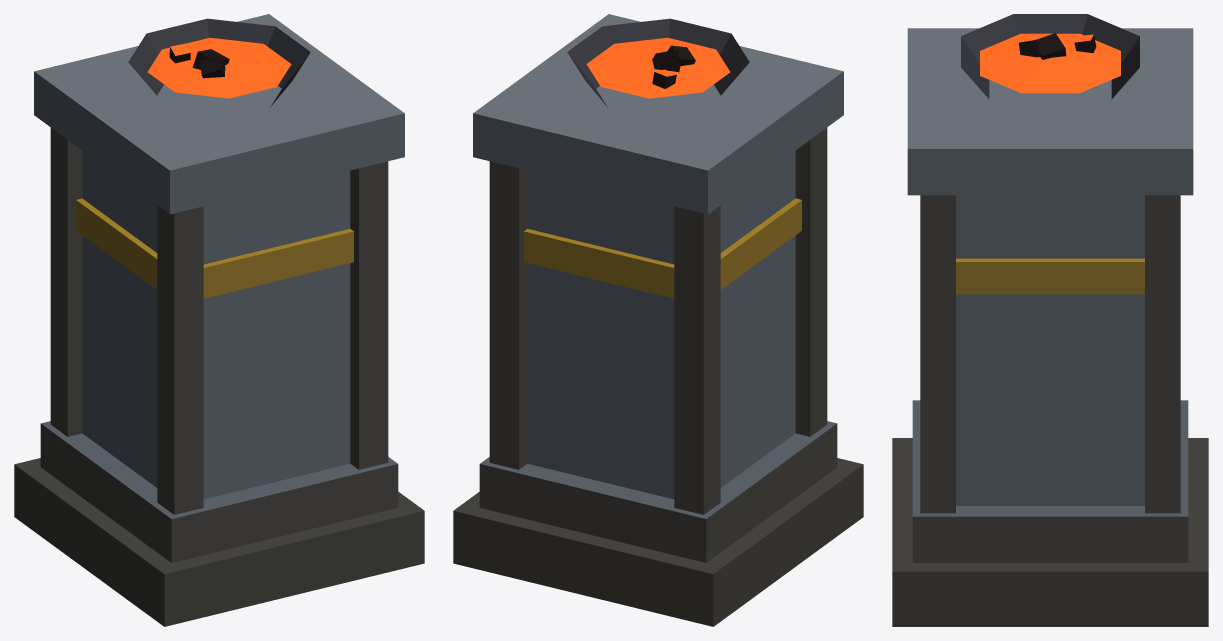
The model's file is altar.glb.
3 views of the same model, side by side, from view 1: azimuth 30°, elevation 25°; view 2: azimuth 150°, elevation 25°; view 3: azimuth 270°, elevation 25° (orthographic). The views are drawn at different scales.
Parts seen in each view (by area): view 1: Altar; view 2: Altar; view 3: Altar.
Part boxes in pixels (x1,y1,x2,y2): Altar: (14, 14, 424, 626); Altar: (453, 14, 863, 626); Altar: (892, 14, 1208, 626).
Size of the model in its own units: 0.62 by 1.12 by 0.62.
Materials: 1 (1 with a texture image).
